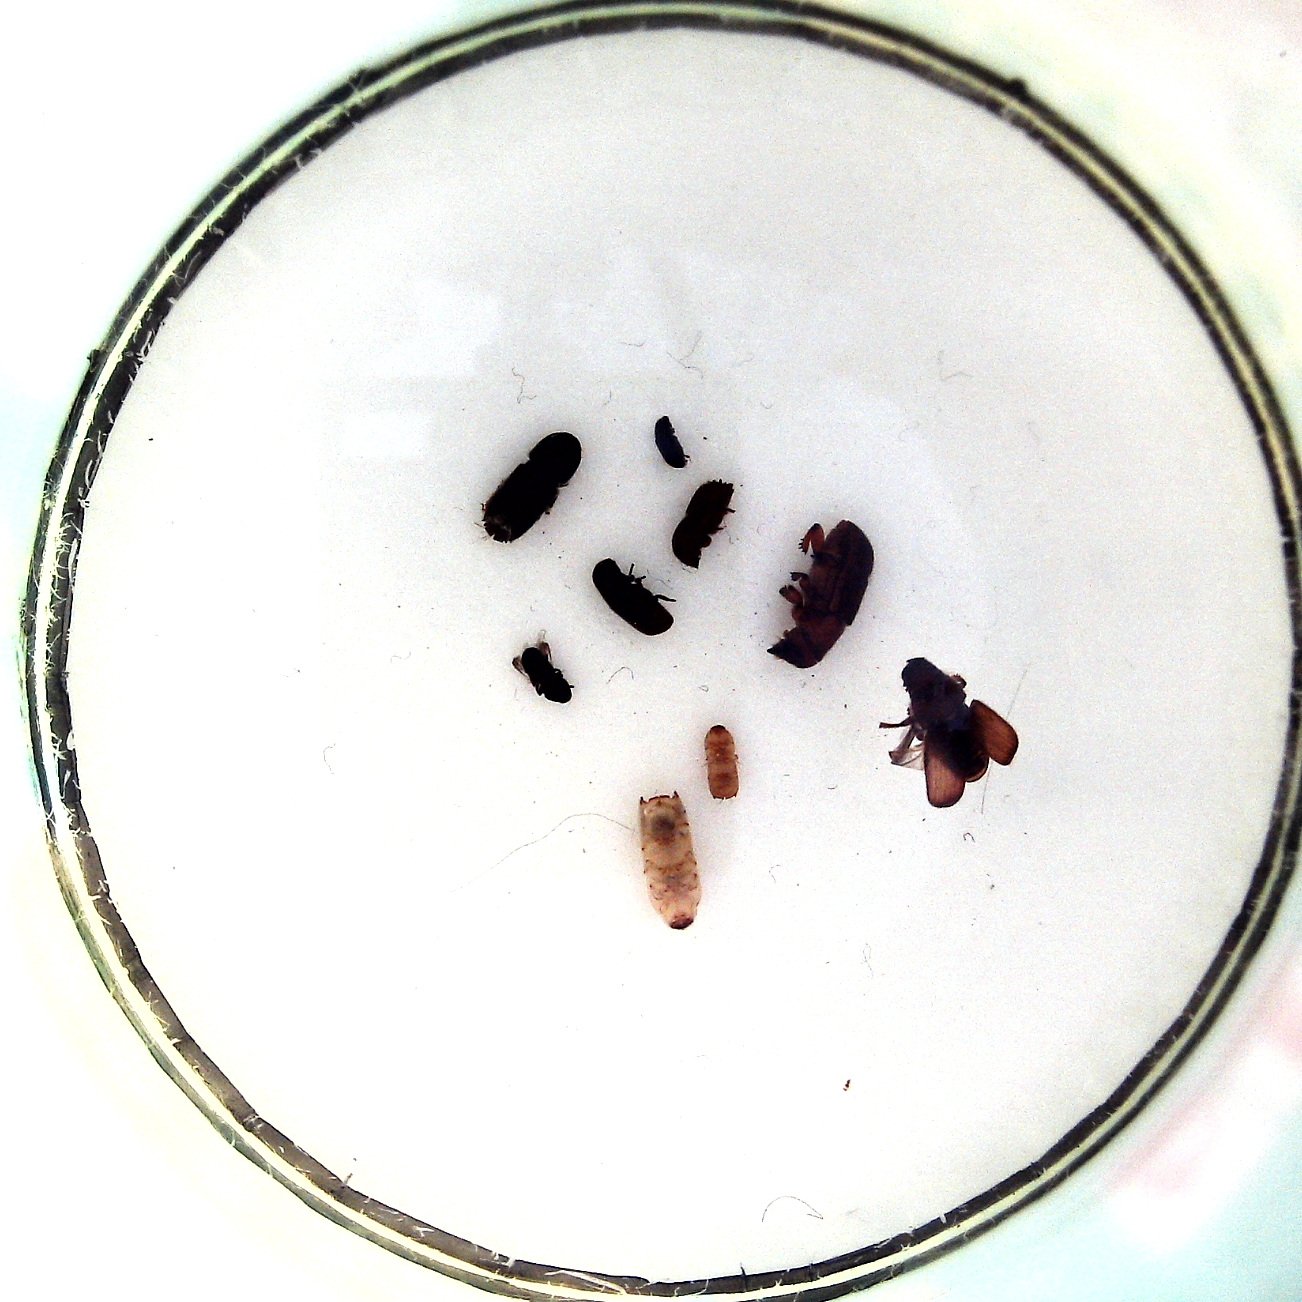Boerner: (630, 789, 708, 936)
Leconte: (874, 652, 1025, 813), (761, 513, 880, 672), (475, 424, 589, 548)
Linnaeus: (666, 477, 744, 571)
acuminatus: (697, 718, 751, 805)
armandi: (582, 556, 684, 638)
coleoptera: (507, 626, 582, 708), (646, 413, 697, 472)
